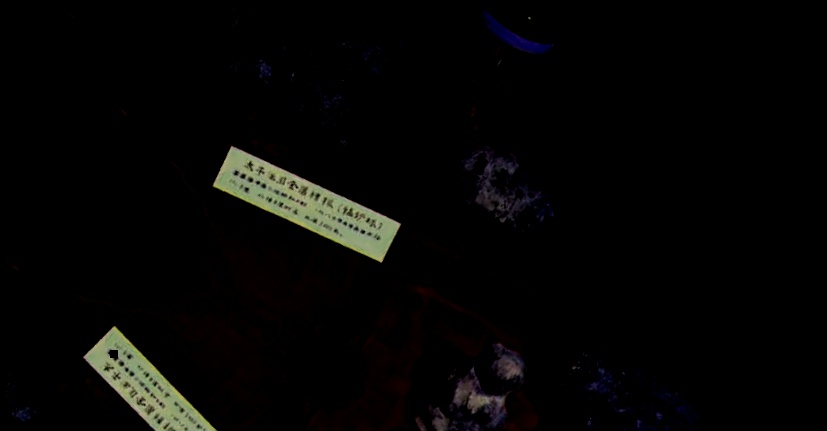halobolite: (427, 310, 521, 431), (450, 149, 565, 224)
